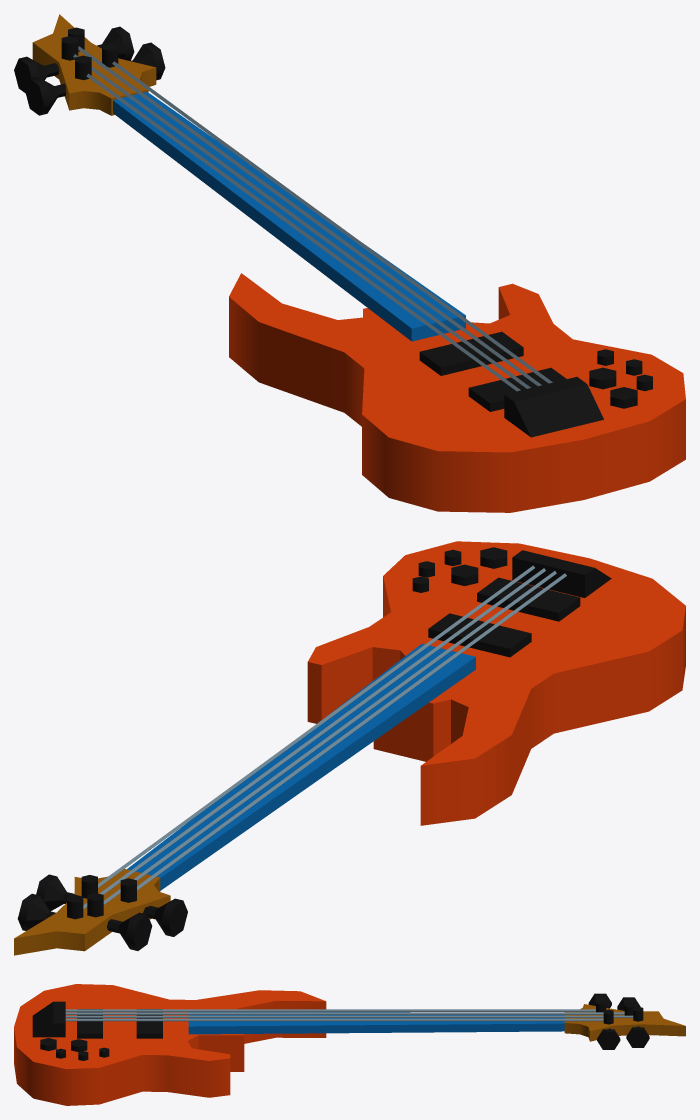
The model's file is Asset_Music_Guitar_01.fbx.
3 renders of one model, top to bottom at view 1: azimuth 30°, elevation 25°; view 2: azimuth 150°, elevation 25°; view 3: azimuth 270°, elevation 25°, orthographic. The views are drawn at different scales.
Parts seen in each view (by area): view 1: Line021; view 2: Line021; view 3: Line021.
Boxes of the visible parts, x1,y1,x2,y2 form: Line021: [14, 14, 685, 512]; Line021: [14, 541, 685, 955]; Line021: [14, 984, 685, 1105].
Bounding box in the file's own units: 34.76 × 10.65 × 116.
